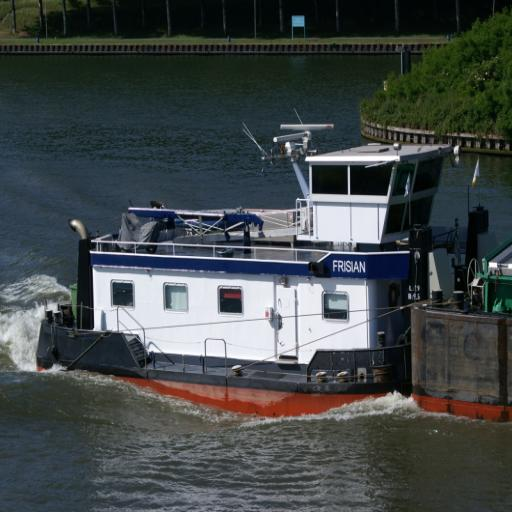tugboat: (35, 114, 494, 438)
